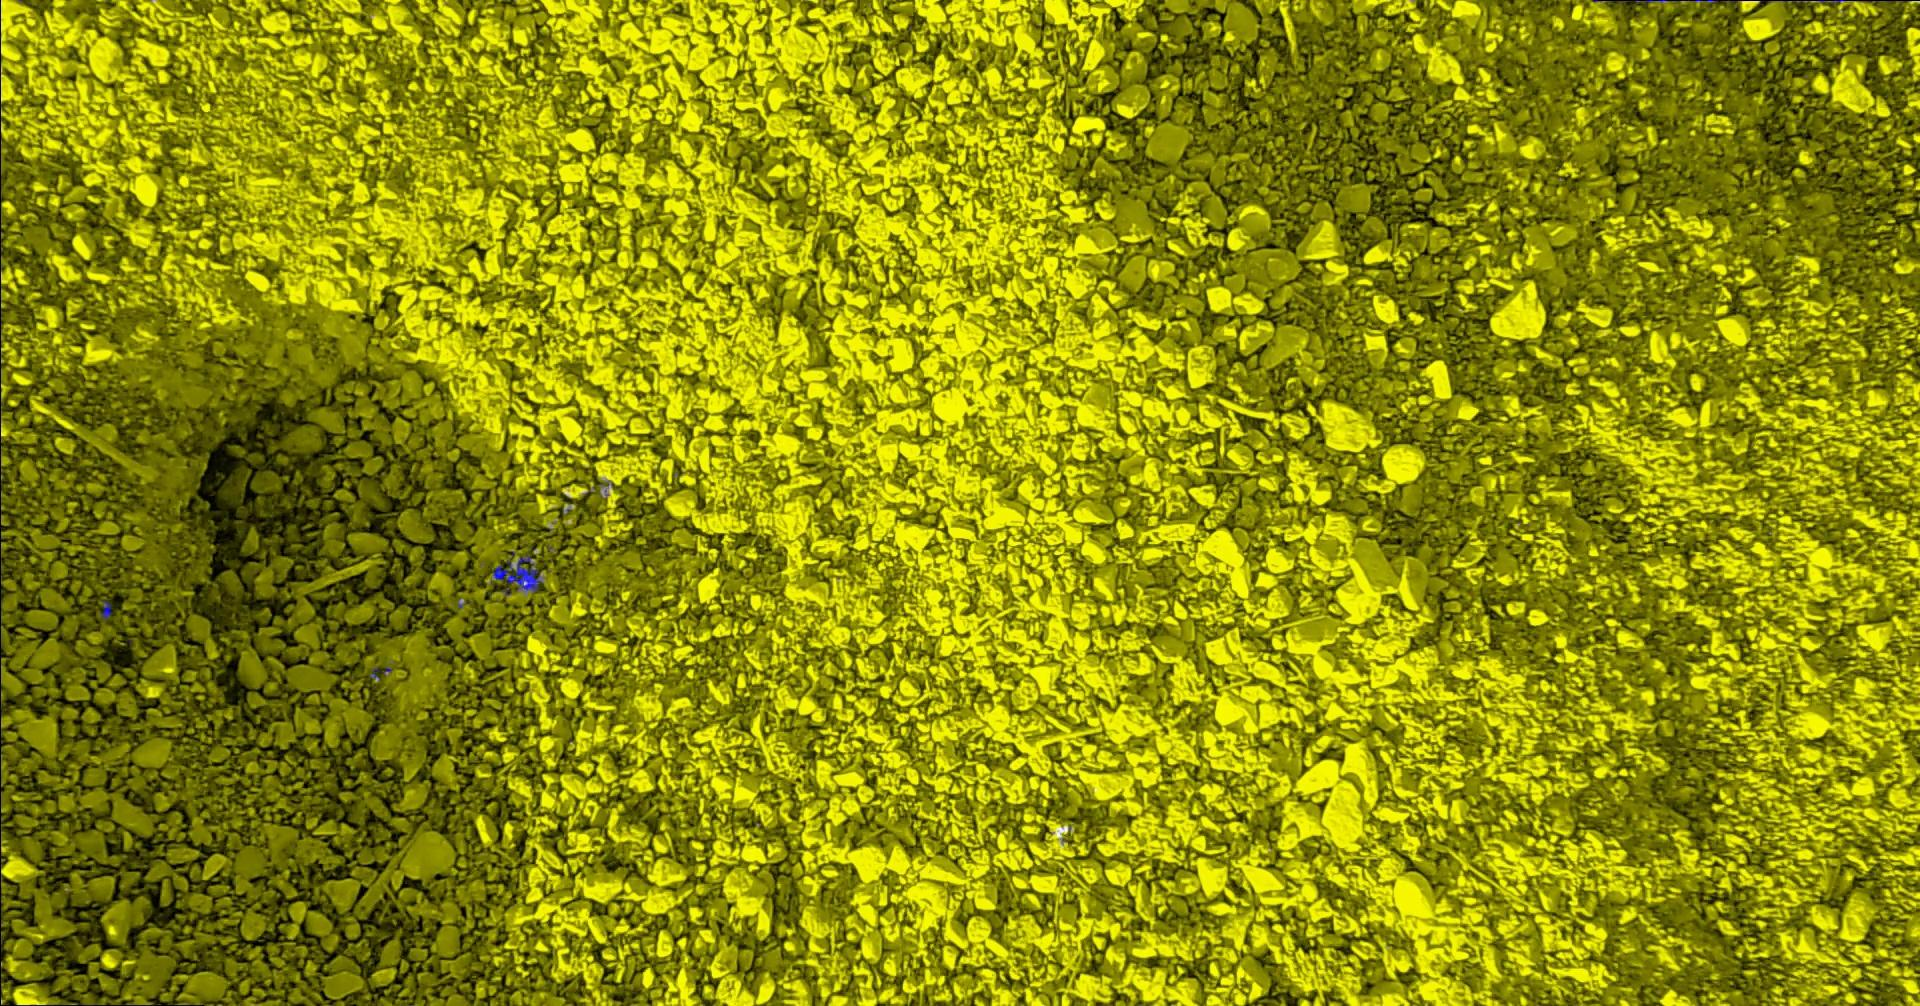ant: (491, 555, 543, 592), (99, 600, 110, 619)
